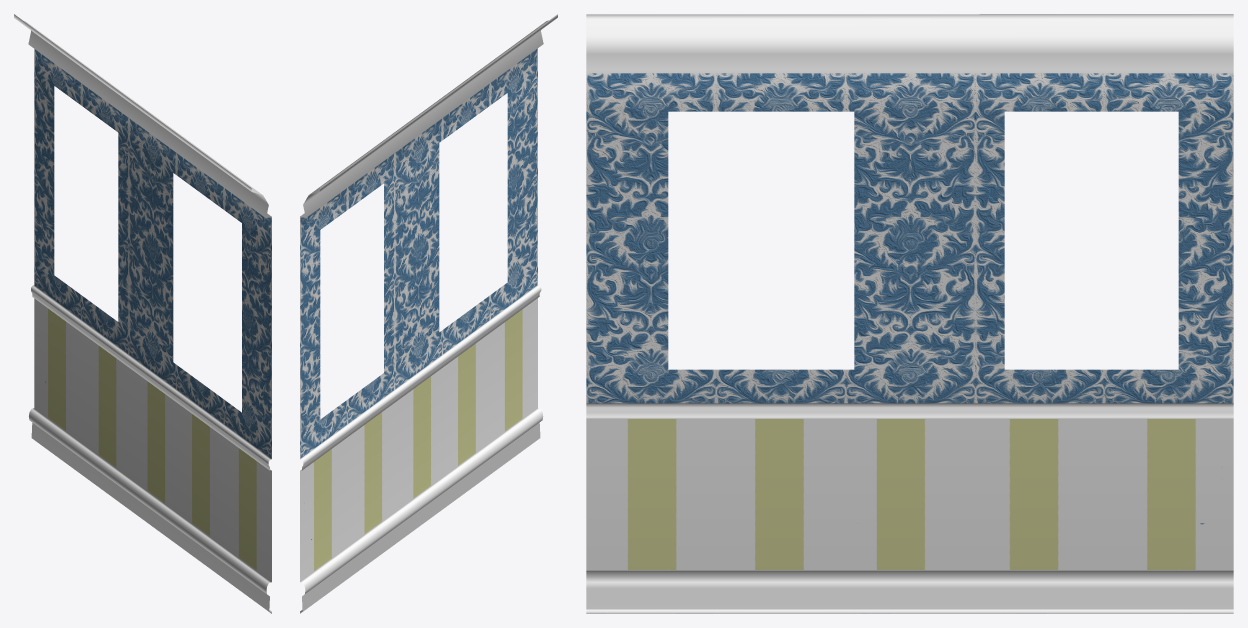
The model's file is EN_WallWindow_01.fbx.
The picture shows the model from 3 angles, left to right: view 1: azimuth 30°, elevation 25°; view 2: azimuth 150°, elevation 25°; view 3: azimuth 270°, elevation 25°; orthographic projection. The views are drawn at different scales.
Parts seen in each view (by area): view 1: pPlane3; view 2: pPlane3; view 3: pPlane3.
Part boxes in pixels (bbox=[...]): pPlane3: bbox=[14, 14, 271, 613]; pPlane3: bbox=[300, 14, 557, 613]; pPlane3: bbox=[586, 14, 1233, 613].
Bounding box in the file's own units: 0.244 × 5 × 5.
